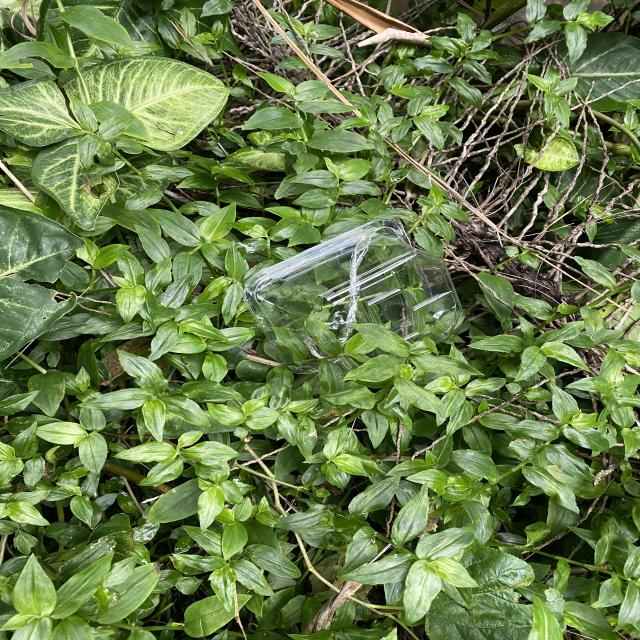cup: (243, 218, 462, 374)
